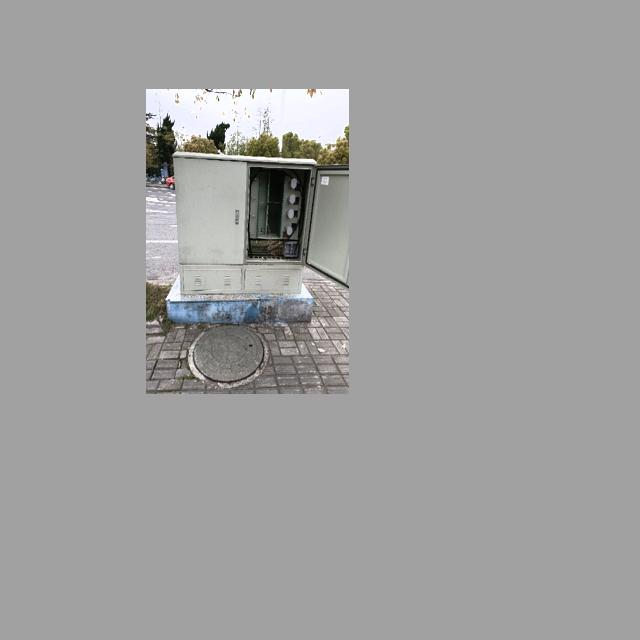good: (189, 322, 270, 389)
